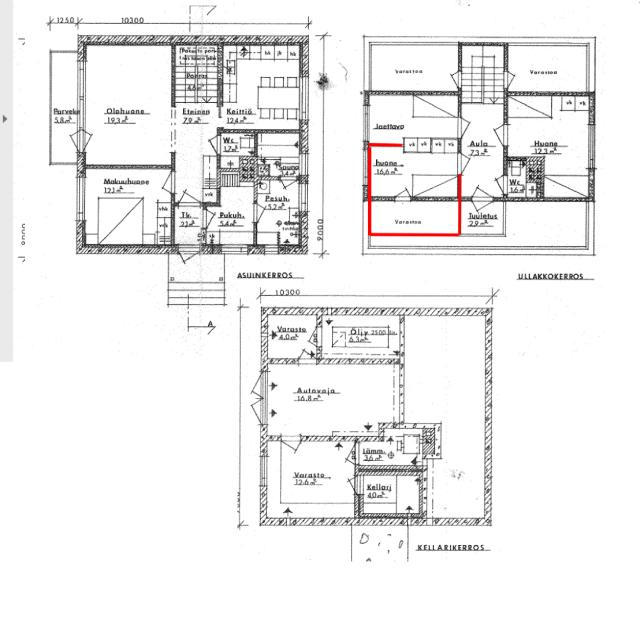door: (236, 371, 267, 398), (236, 398, 267, 425), (54, 130, 85, 154), (77, 130, 107, 154), (178, 244, 199, 276), (178, 179, 200, 206), (482, 124, 507, 146), (151, 172, 175, 194), (281, 436, 301, 462), (360, 436, 379, 461), (254, 202, 276, 223), (458, 153, 480, 174), (484, 175, 507, 195), (458, 118, 480, 138), (375, 90, 393, 114), (203, 208, 224, 228), (548, 91, 566, 114), (402, 460, 424, 478), (201, 136, 221, 154), (280, 176, 296, 198), (487, 210, 506, 228)
